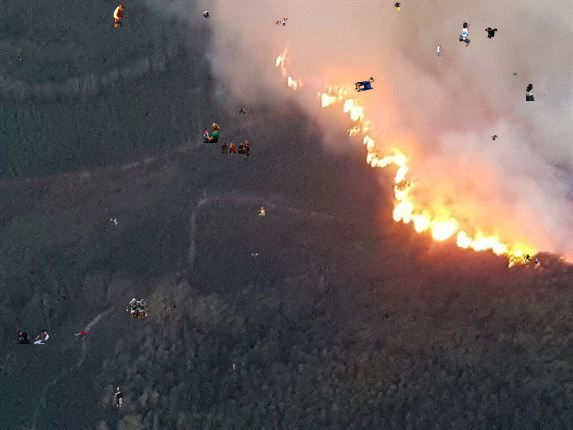Human: (126, 298, 151, 318), (195, 123, 220, 143), (66, 331, 87, 354), (221, 140, 251, 156), (17, 329, 49, 344), (459, 20, 472, 47), (111, 2, 125, 27), (354, 77, 376, 92), (114, 387, 123, 407), (485, 26, 498, 39), (525, 254, 538, 266), (526, 84, 535, 101), (273, 18, 289, 26), (490, 134, 503, 142), (257, 207, 265, 218), (394, 1, 401, 13), (437, 44, 442, 59), (247, 253, 258, 259), (110, 218, 118, 226), (203, 11, 210, 19), (238, 108, 246, 114), (60, 294, 67, 300), (172, 304, 176, 312), (513, 72, 519, 77), (18, 54, 21, 61), (233, 363, 235, 370), (5, 50, 7, 55), (316, 165, 318, 168), (51, 340, 53, 342), (350, 344, 351, 346), (205, 22, 206, 23)
